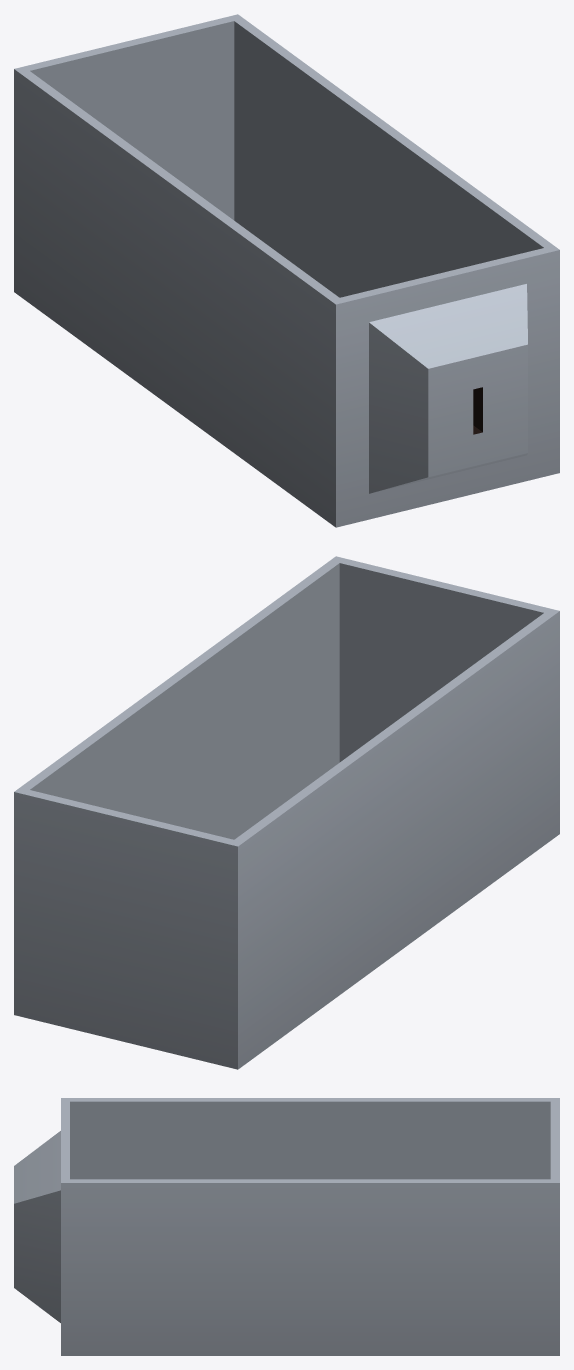
The model's file is DryerWasher_CoinCollector_1_Standalone_Laundromat.fbx.
3 renders of one model, top to bottom at view 1: azimuth 30°, elevation 25°; view 2: azimuth 150°, elevation 25°; view 3: azimuth 270°, elevation 25°, orthographic. The views are drawn at different scales.
Parts seen in each view (by area): view 1: DryerWasher_CoinCollector_1_Standalone.Laundromat; view 2: DryerWasher_CoinCollector_1_Standalone.Laundromat; view 3: DryerWasher_CoinCollector_1_Standalone.Laundromat.
Part boxes in pixels (bbox=[...]): DryerWasher_CoinCollector_1_Standalone.Laundromat: bbox=[14, 14, 559, 527]; DryerWasher_CoinCollector_1_Standalone.Laundromat: bbox=[14, 556, 559, 1069]; DryerWasher_CoinCollector_1_Standalone.Laundromat: bbox=[14, 1098, 559, 1355].
Bounding box in the file's own units: 13.52 × 13.28 × 36.8.
1 material, 1 textured.
